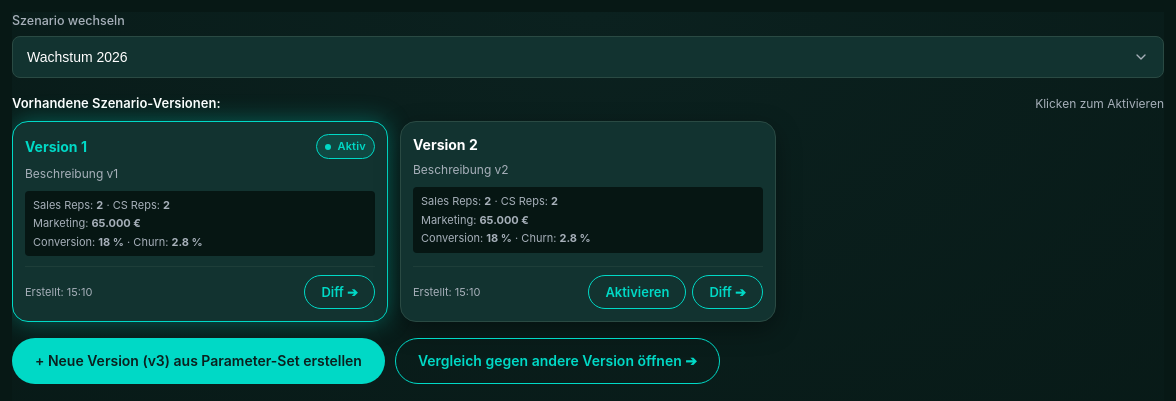
Test: ScenarioManageTab (branch2) › geschütztes Szenario erscheint mit Schutz-Hinweis in der Auswahl
What coordinates should you click on to do the following:
click the dropdown named "Szenario wechseln"
I would click on:
 (77, 57)
Its box is [12,36,1164,78].
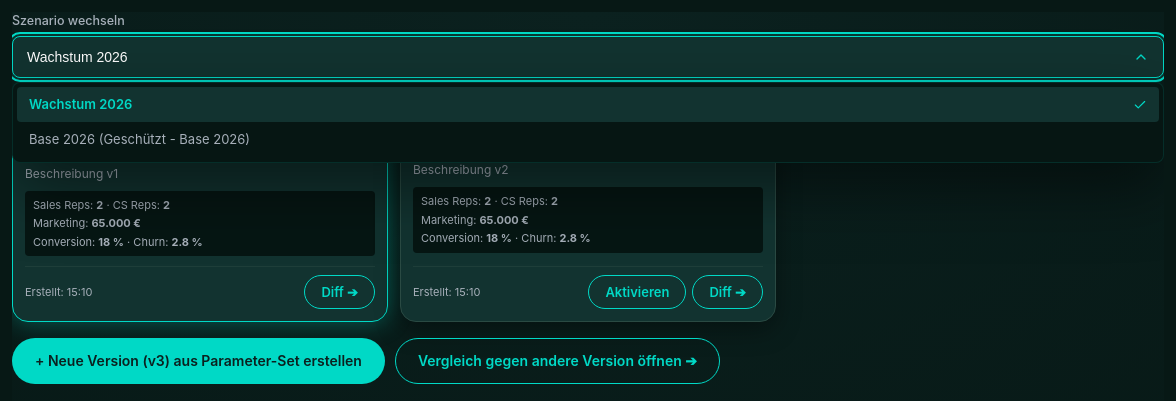
Now the option "Base 2026 (Geschützt - Base 2026)" is shown, box [29,131,250,147]
